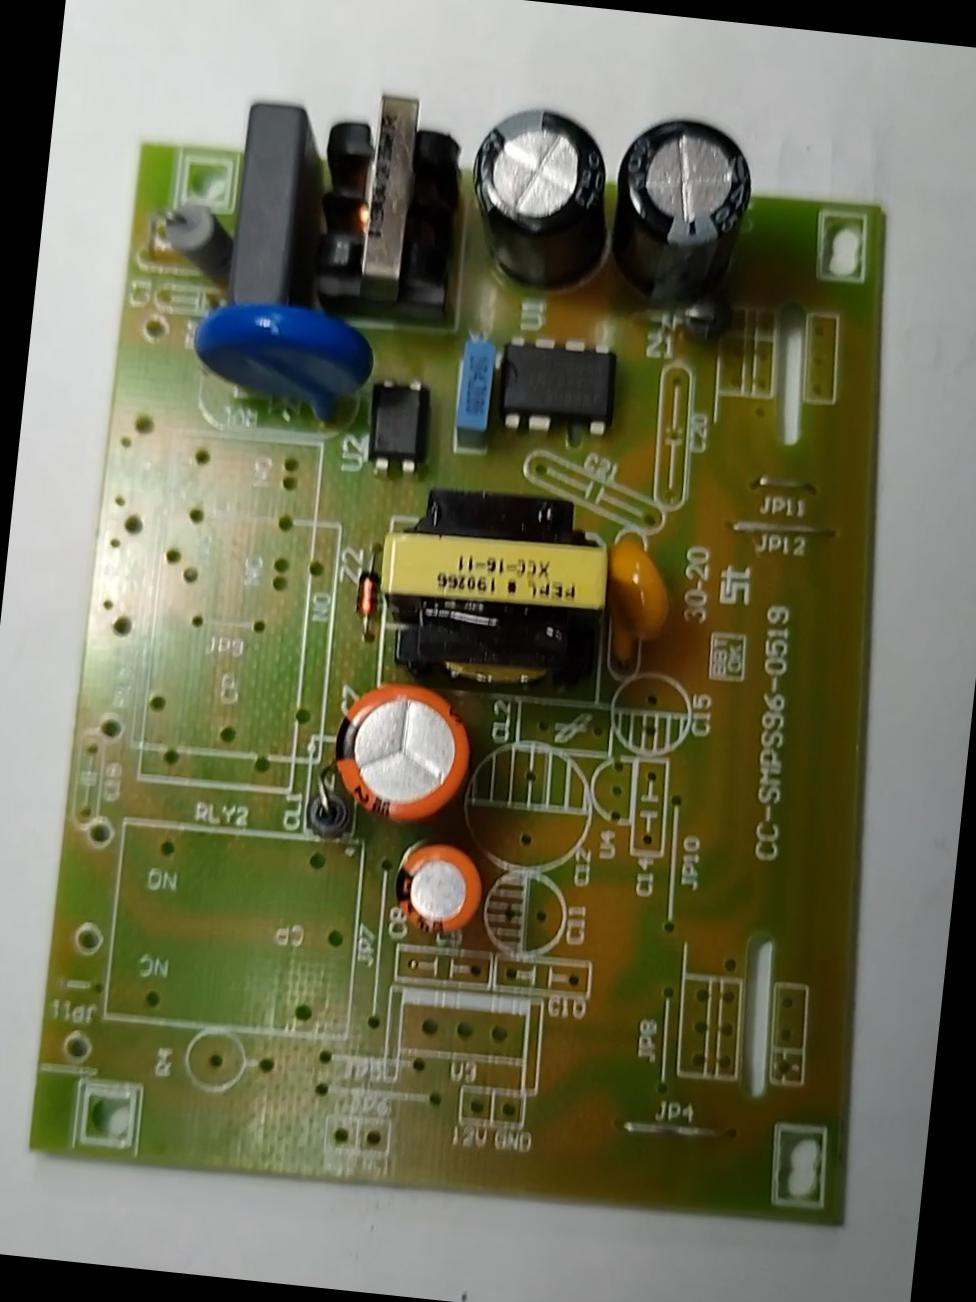Cap1: (323, 670, 481, 835)
Cap2: (389, 840, 490, 944)
Cap3: (460, 101, 617, 302)
Cap4: (603, 112, 753, 317)
MOSFET: (495, 332, 623, 442)
Mov: (181, 294, 377, 428)
Resistor: (153, 195, 239, 284)
Transformer: (371, 484, 618, 702), (308, 87, 470, 323)
